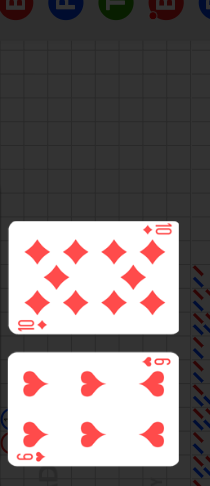10D: (141, 223, 173, 237)
6H: (15, 450, 47, 463)
